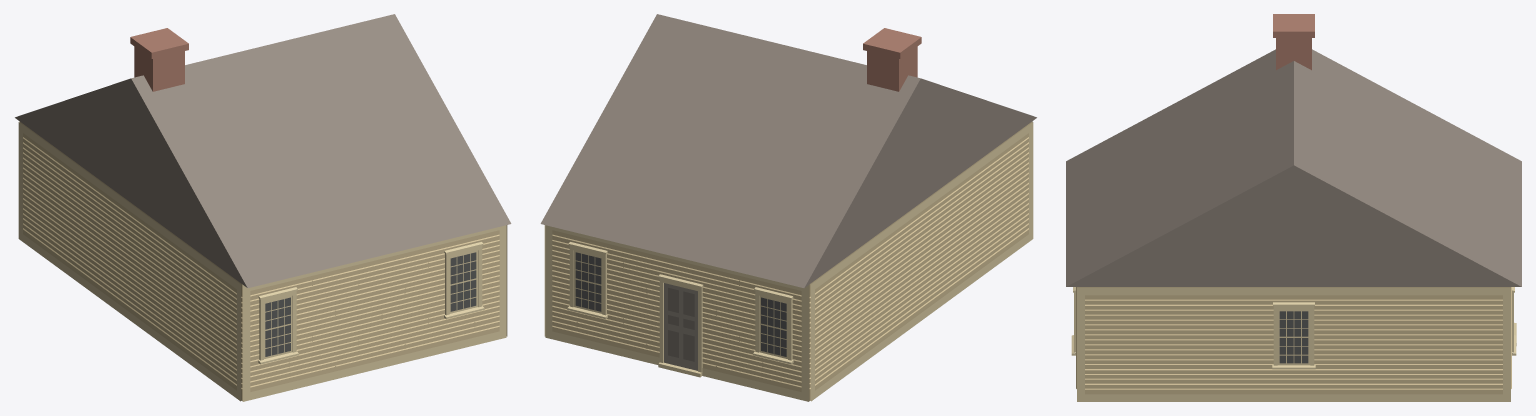
File: recon_1835_blk_school_section_tier_81_d5_07__inferred_1835.glb
3 renders of one model, left to right at view 1: azimuth 30°, elevation 25°; view 2: azimuth 150°, elevation 25°; view 3: azimuth 270°, elevation 25°, orthographic. The views are drawn at different scales.
Visible parts, largest first — view 1: recon_1835_blk_school_section_tier_81_d5_07__inferred_1835; view 2: recon_1835_blk_school_section_tier_81_d5_07__inferred_1835; view 3: recon_1835_blk_school_section_tier_81_d5_07__inferred_1835.
Boxes of the visible parts, left/top/right/bottom form: recon_1835_blk_school_section_tier_81_d5_07__inferred_1835: left=15, top=14, right=511, bottom=401; recon_1835_blk_school_section_tier_81_d5_07__inferred_1835: left=540, top=14, right=1036, bottom=401; recon_1835_blk_school_section_tier_81_d5_07__inferred_1835: left=1066, top=14, right=1521, bottom=401.
Size of the model in its own units: 7.09 by 6.85 by 10.62.
